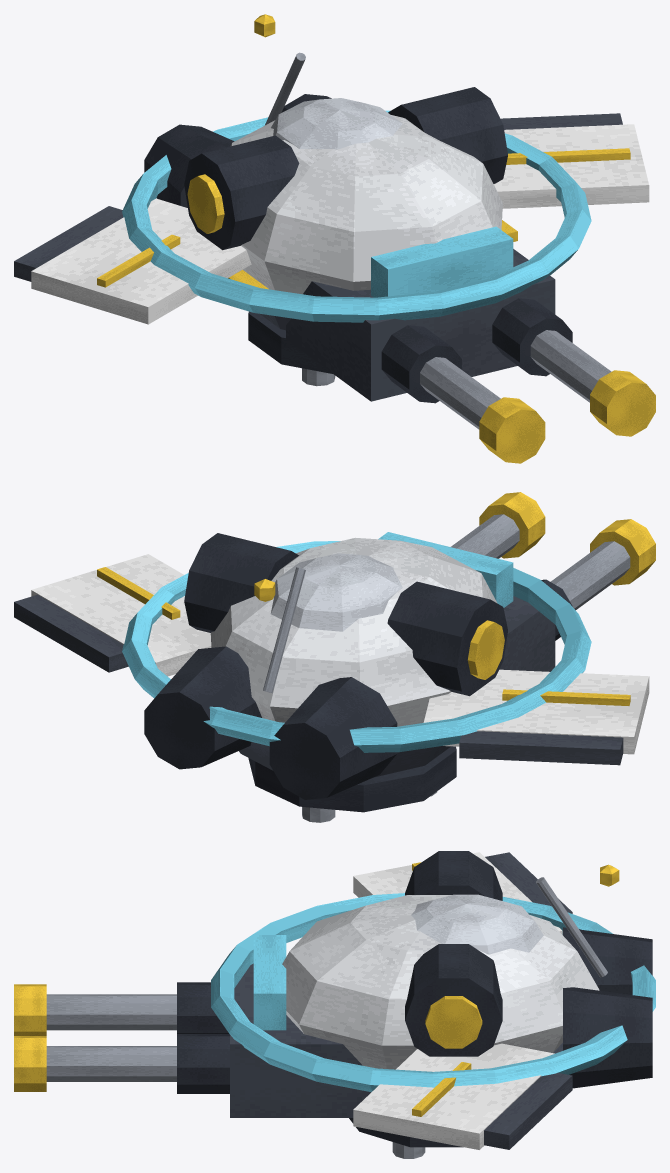
Rendered from drone_twin.glb.
The picture shows the model from 3 angles, top to bottom: view 1: azimuth 30°, elevation 25°; view 2: azimuth 150°, elevation 25°; view 3: azimuth 270°, elevation 25°; orthographic projection. The views are drawn at different scales.
Visible parts, largest first — view 1: drone_twin, halo; view 2: drone_twin, halo; view 3: drone_twin, halo.
Boxes of the visible parts, left/top/right/bottom form: drone_twin: left=14, top=14, right=655, bottom=463; halo: left=122, top=110, right=591, bottom=322; drone_twin: left=14, top=492, right=655, bottom=822; halo: left=122, top=541, right=591, bottom=752; drone_twin: left=14, top=851, right=652, bottom=1158; halo: left=211, top=893, right=655, bottom=1092.
Size of the model in its own units: 1.64 by 0.715 by 1.58.
2 materials, 2 textured.
